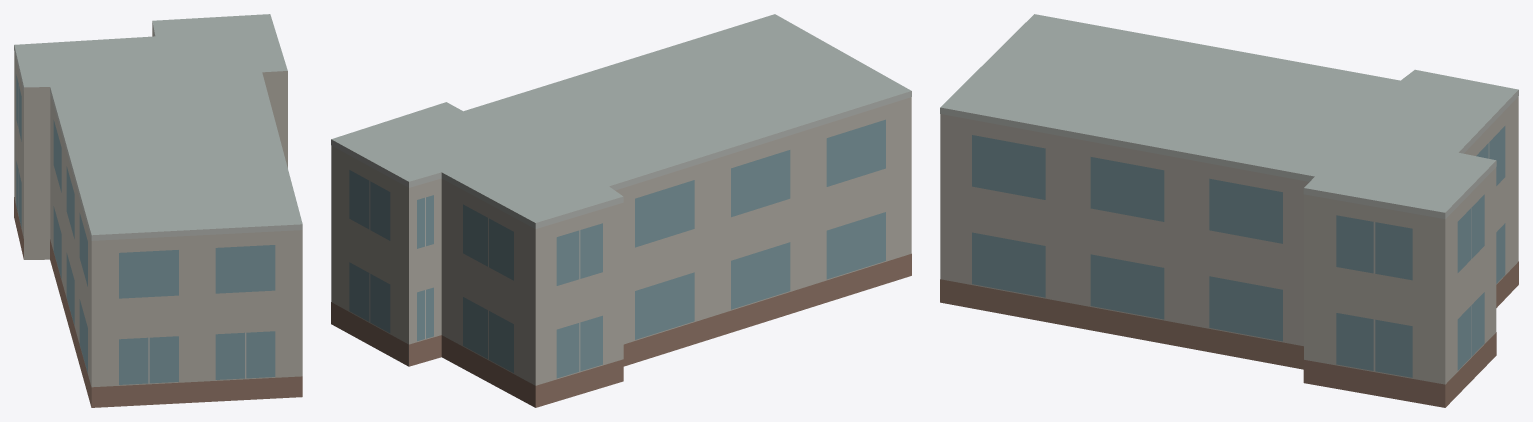
File: survey-upis-32924312.glb
The picture shows the model from 3 angles, left to right: view 1: azimuth 30°, elevation 25°; view 2: azimuth 150°, elevation 25°; view 3: azimuth 270°, elevation 25°; orthographic projection. The views are drawn at different scales.
Parts seen in each view (by area): view 1: survey-upis-32924312.tmp; view 2: survey-upis-32924312.tmp; view 3: survey-upis-32924312.tmp.
Boxes of the visible parts, x1,y1,x2,y2 form: survey-upis-32924312.tmp: (14,14,302,407); survey-upis-32924312.tmp: (331,14,911,407); survey-upis-32924312.tmp: (940,14,1518,407).
Size of the model in its own units: 16.18 by 7.4 by 19.9.
